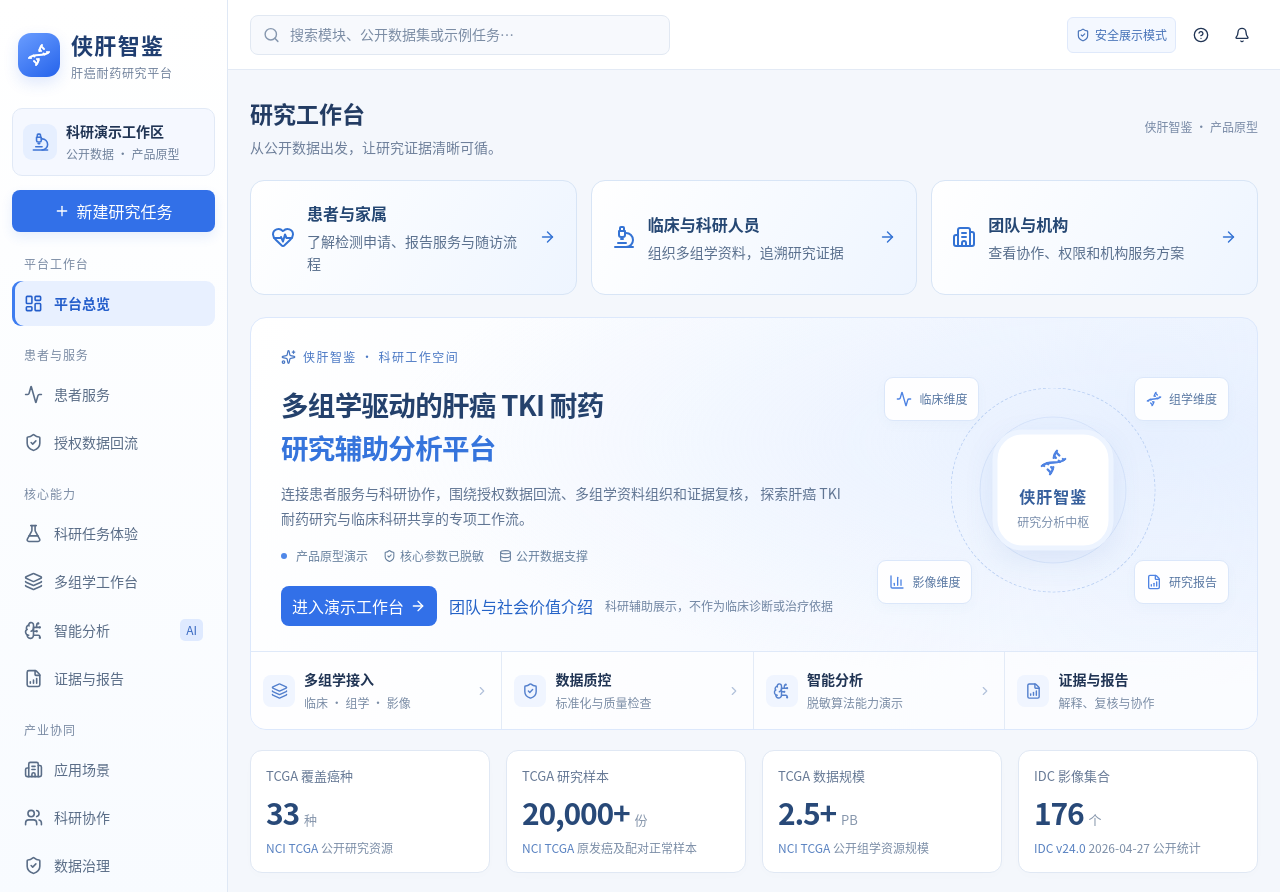
Test case: 首页团队介绍与数据回流入口可达，详情说明权限边界
Click the button "授权数据回流".
click(114, 442)  # box top-left (12, 420), bottom-right (215, 465)
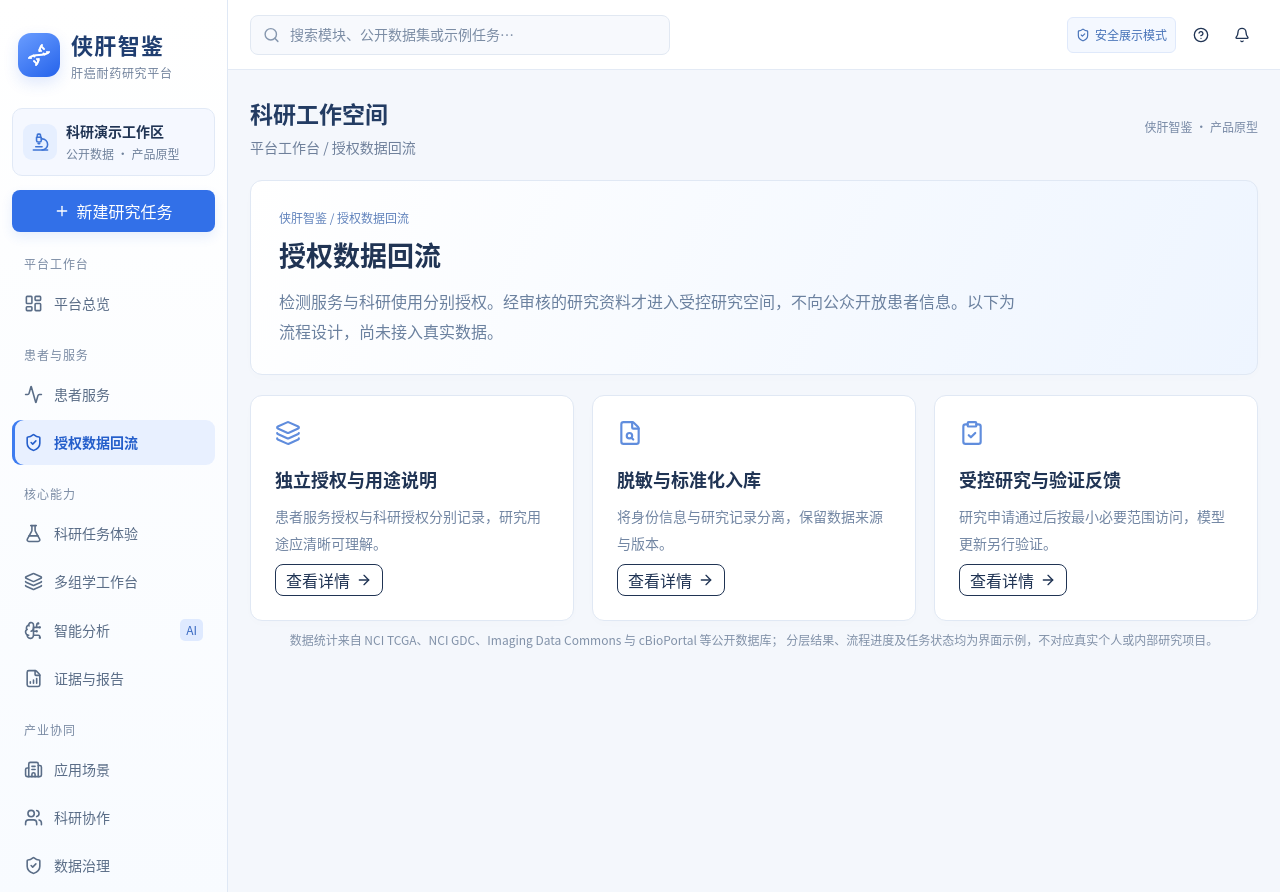
Click the button with aria-label "独立授权与用途说明".
click(329, 580)  # box top-left (275, 564), bottom-right (383, 596)
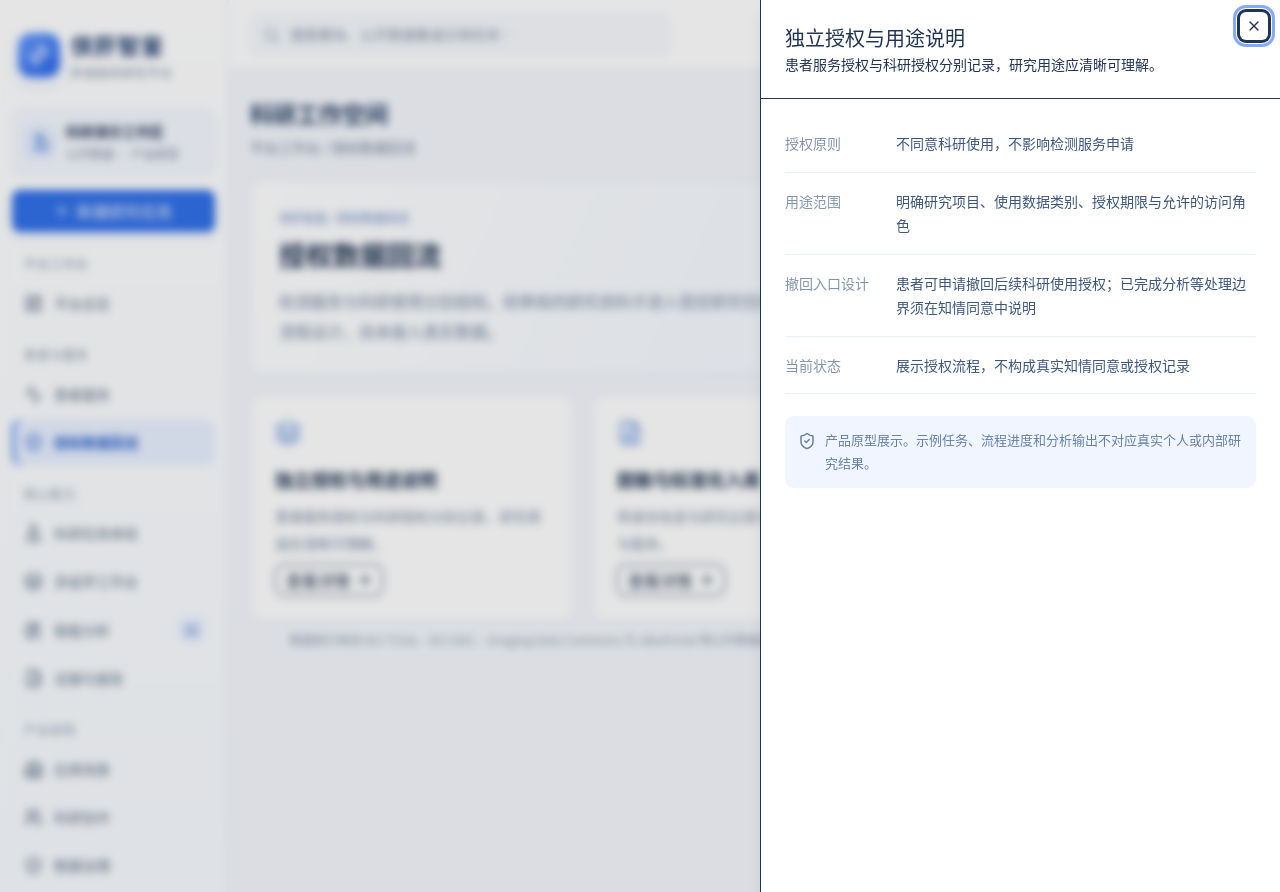
Expected: the dialog shows "不同意科研使用，不影响检测服务申请", top-left (896, 133), bottom-right (1134, 153)
